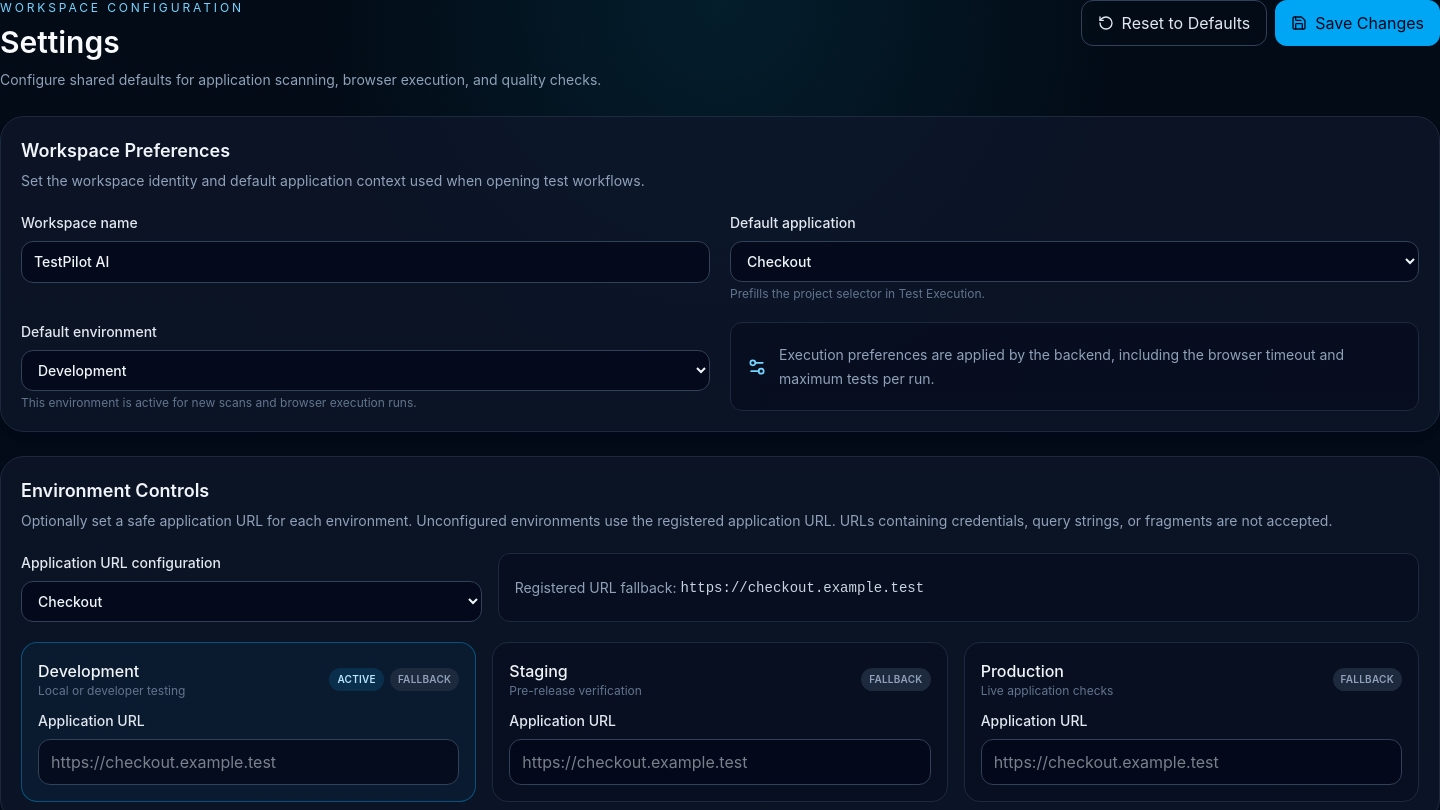
Scenario: Settings page › loads settings, saves edits, and persists the configured project/environment preferences
Replace the text in the field labelled "Workspace name" with "QA workspace" at {"x": 366, "y": 262}, box [21,241,710,283]
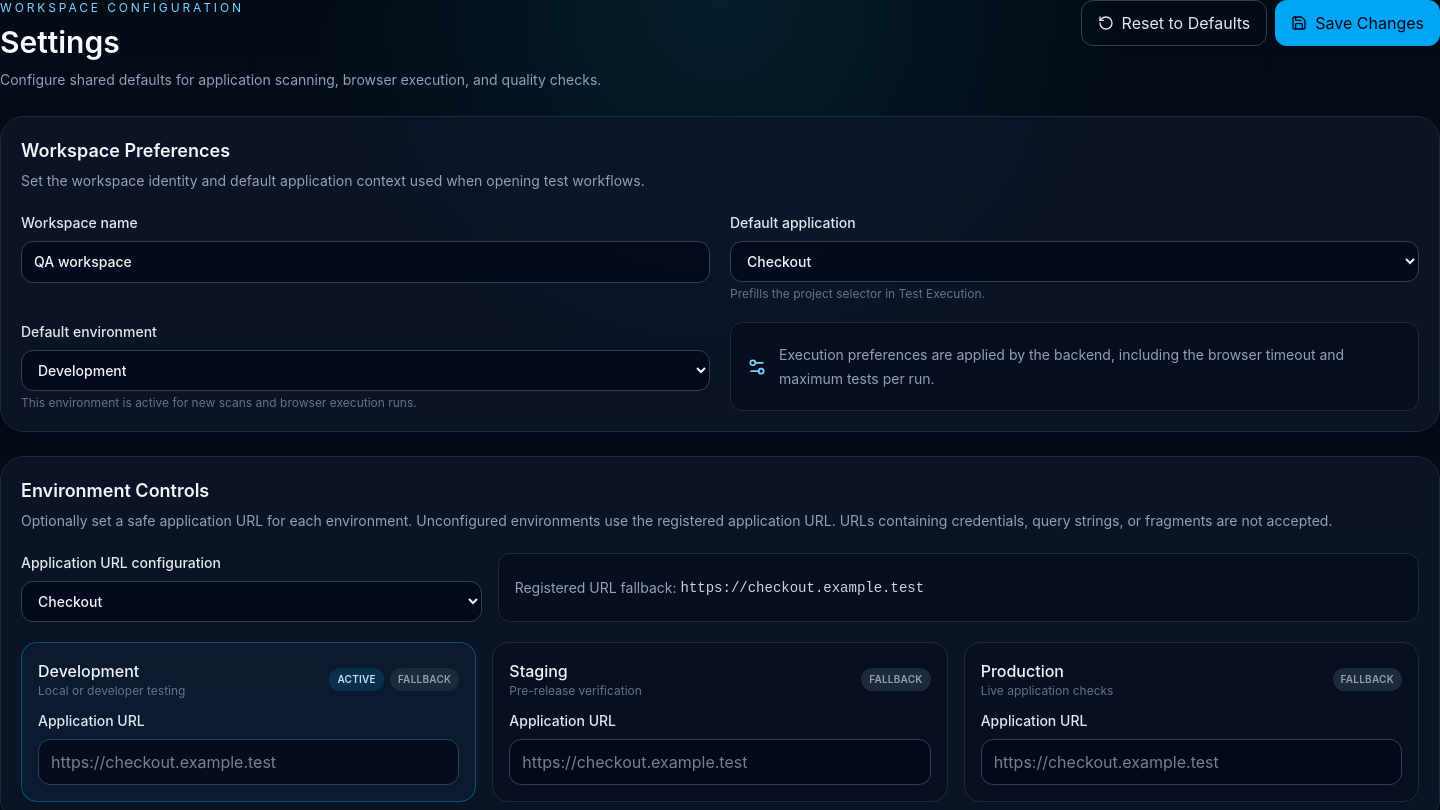
Select "Staging" in the dropdown with id "settings-active-environment" at {"x": 366, "y": 370}, box [21,350,710,391]
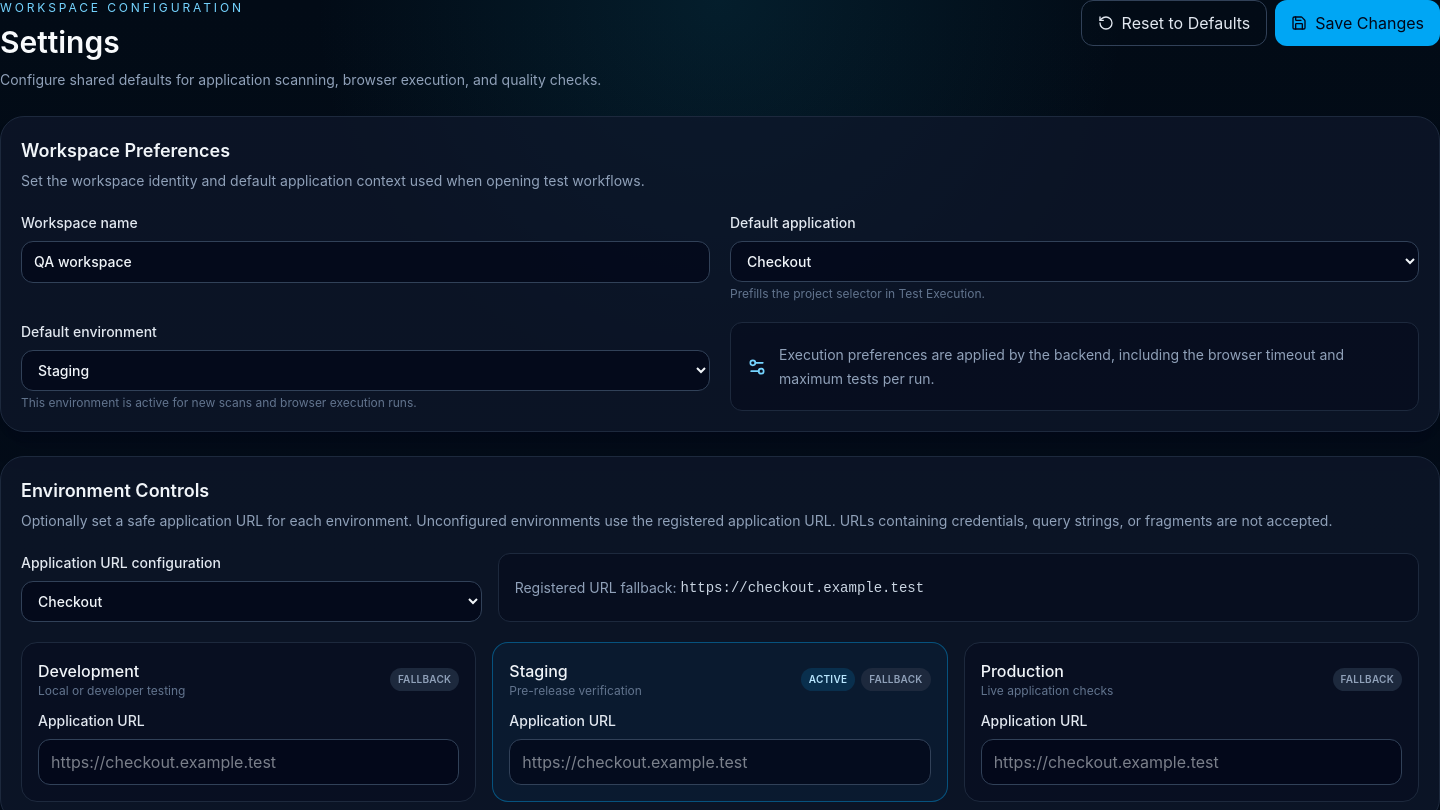
Type "https://stage.example.test" into the field with id "settings-url-staging" at {"x": 720, "y": 762}, box [509,739,931,785]
(page scrolled)
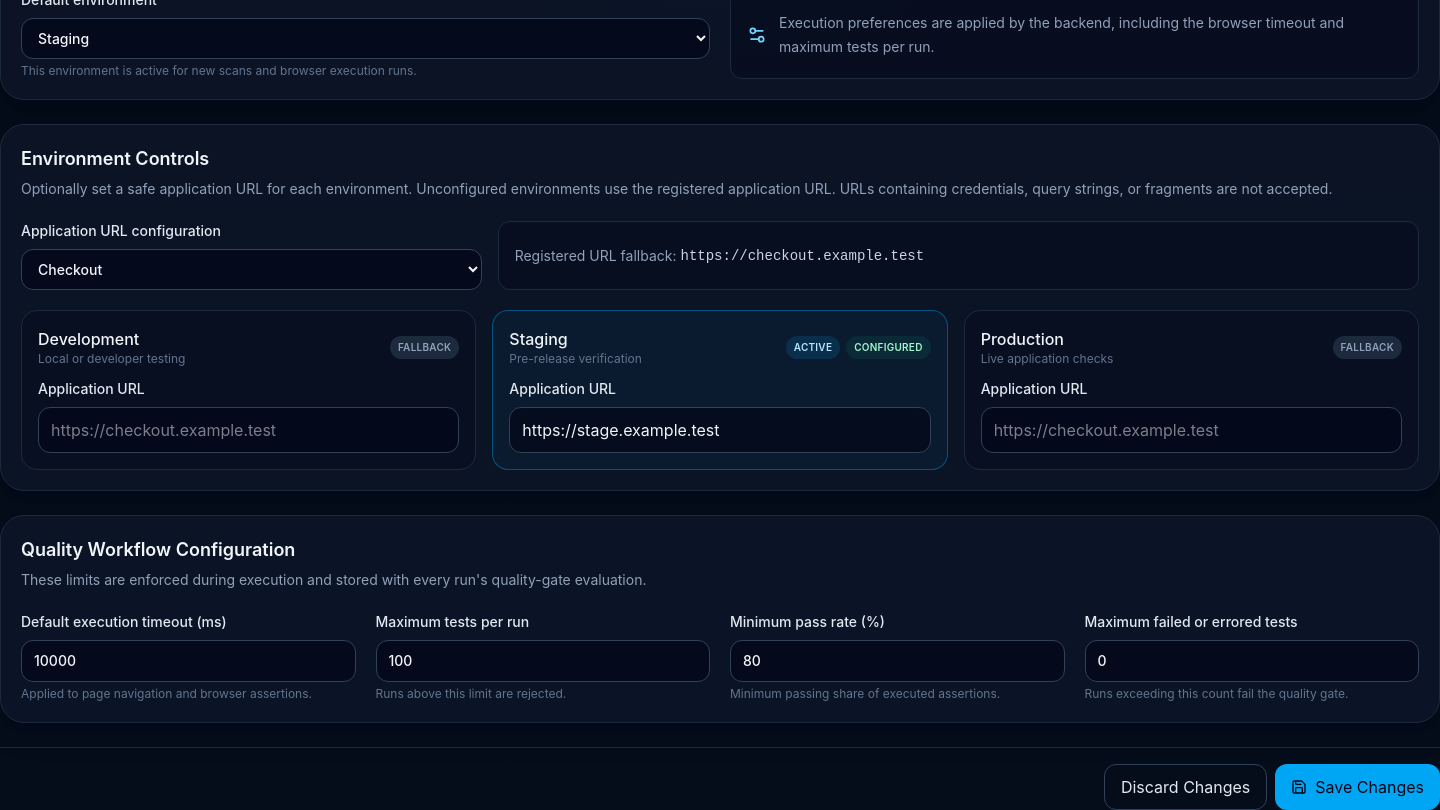
Replace the text in the number field with id "settings-timeout" with "14000" at {"x": 188, "y": 661}, box [21,640,356,682]
(page scrolled)
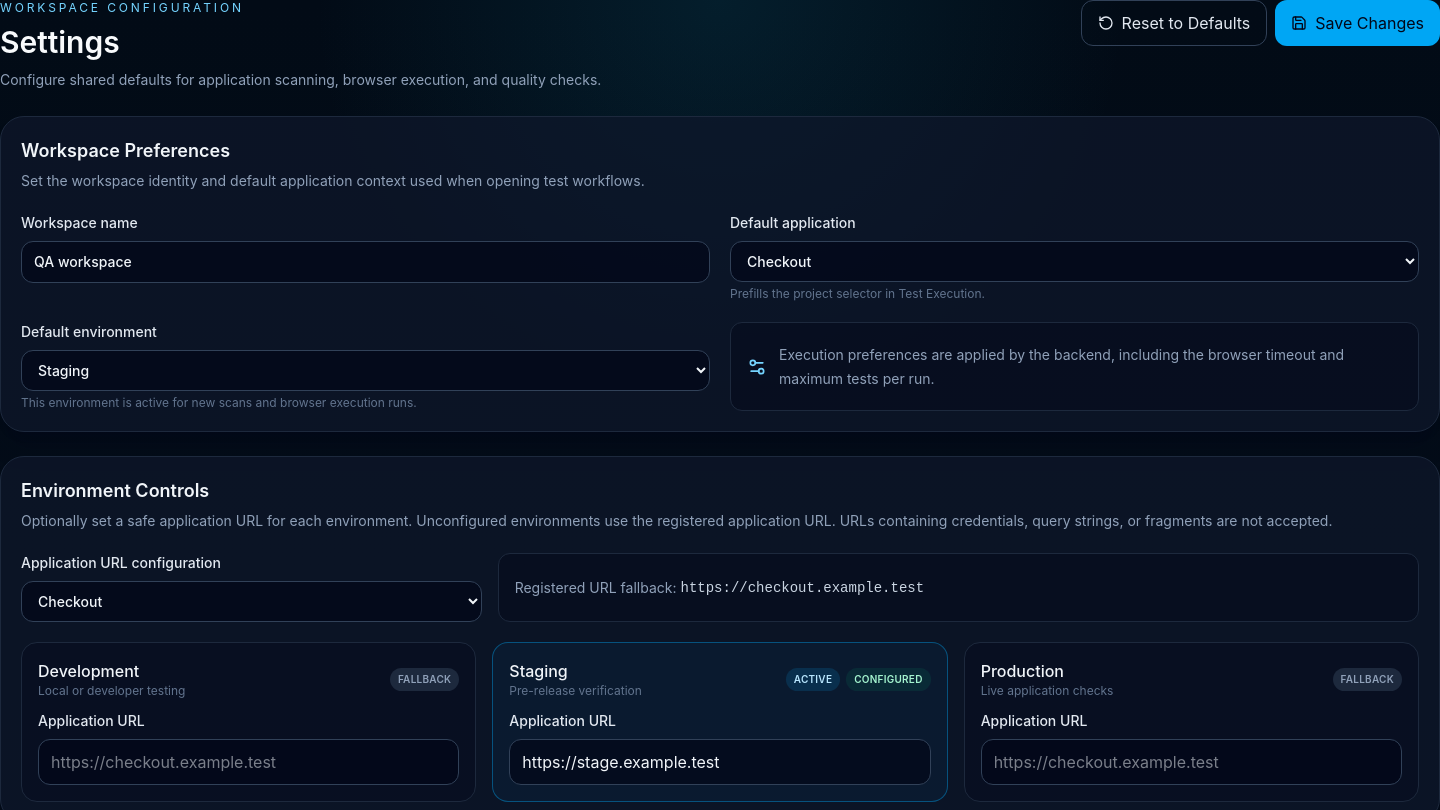
Click the button "Save Changes" at {"x": 1358, "y": 23}, box [1275,0,1439,46]
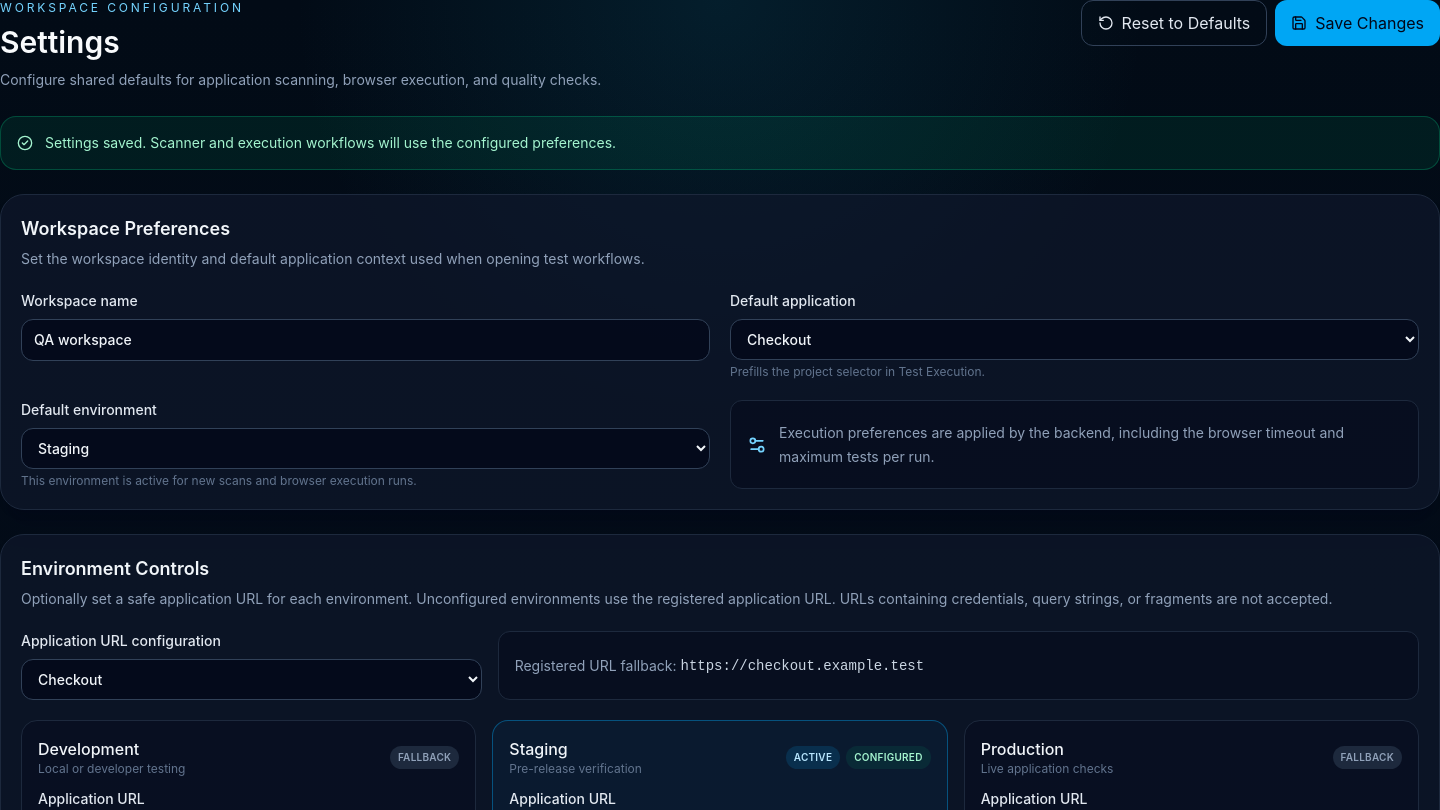
Expected: the text "Settings saved" is shown, [45,134,616,151]
